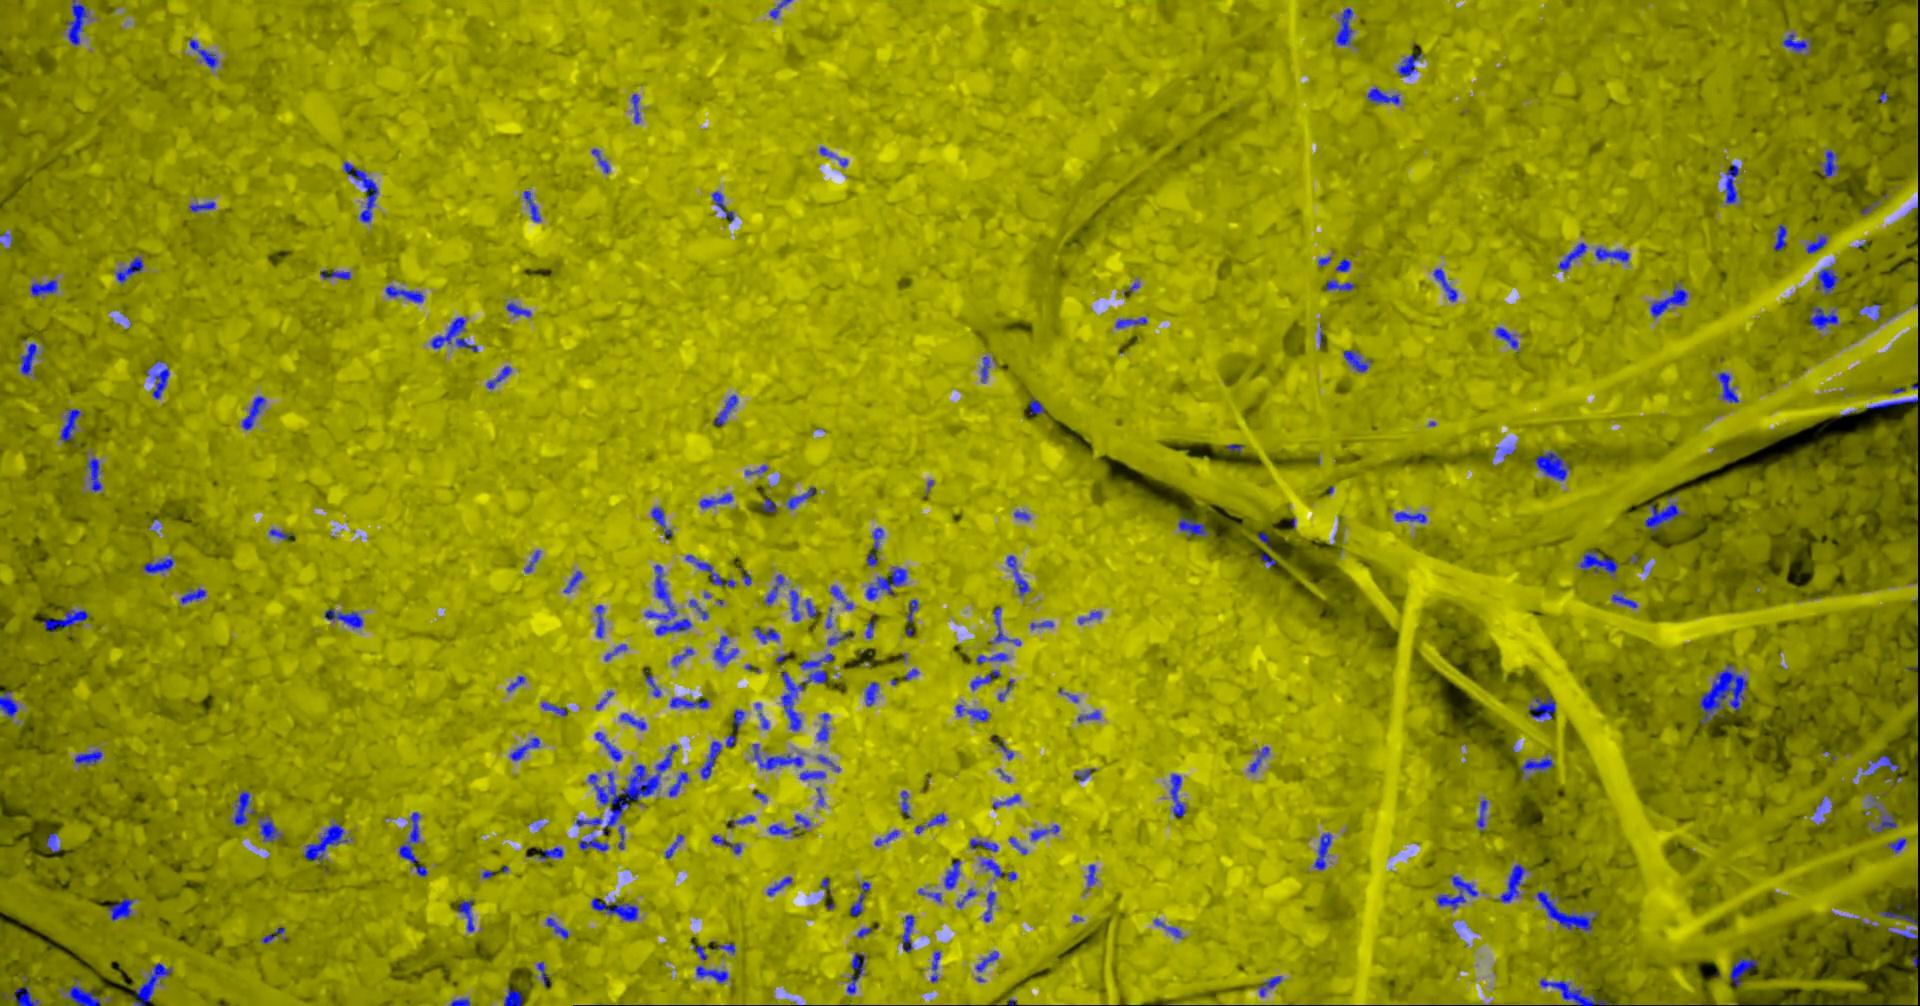ant: (781, 653, 833, 730), (644, 564, 691, 634), (1537, 890, 1597, 931), (342, 161, 378, 222), (397, 810, 427, 876), (1539, 978, 1610, 1005), (302, 823, 347, 861), (684, 554, 735, 587), (133, 962, 171, 1005), (430, 316, 477, 351), (1436, 875, 1477, 909), (865, 567, 905, 600), (752, 743, 803, 768), (1650, 285, 1688, 318), (989, 606, 1020, 645), (1644, 502, 1684, 531), (590, 897, 637, 921), (1534, 451, 1570, 480), (65, 0, 88, 44), (1498, 862, 1524, 902), (43, 608, 88, 630), (1006, 555, 1029, 594), (10, 974, 39, 1005), (1578, 550, 1617, 573), (1432, 267, 1457, 301), (241, 395, 265, 429), (700, 741, 721, 779), (189, 39, 217, 69), (1557, 243, 1586, 271), (1730, 956, 1757, 986), (232, 790, 255, 826), (594, 730, 621, 760), (712, 635, 738, 666), (712, 394, 737, 426), (1879, 904, 1919, 923), (846, 951, 863, 993), (324, 608, 362, 627), (66, 984, 102, 1005), (116, 257, 142, 283), (850, 882, 870, 916), (914, 812, 946, 833), (385, 285, 423, 302), (1528, 695, 1556, 719), (58, 408, 79, 441), (1808, 306, 1837, 329), (146, 368, 169, 398), (509, 737, 538, 760), (711, 191, 733, 221), (1717, 371, 1738, 401), (1335, 8, 1352, 44), (1313, 832, 1331, 869), (651, 507, 672, 539), (1815, 267, 1839, 293), (258, 814, 282, 841), (1170, 774, 1185, 815), (786, 486, 815, 508), (866, 527, 883, 565), (955, 704, 989, 721), (107, 897, 133, 920), (1723, 164, 1738, 203), (818, 146, 847, 166), (1397, 52, 1421, 76), (1495, 326, 1517, 352), (1177, 516, 1208, 535), (764, 574, 783, 605), (970, 669, 1001, 688), (711, 835, 742, 854), (85, 457, 102, 492), (1368, 86, 1399, 104), (1153, 918, 1182, 937), (486, 365, 510, 387), (698, 492, 731, 508), (695, 965, 728, 982), (1865, 398, 1919, 408), (1248, 746, 1269, 772), (1782, 33, 1810, 52), (830, 586, 853, 608), (1519, 757, 1553, 772), (1343, 349, 1368, 371), (523, 191, 540, 221), (19, 343, 36, 373), (1594, 246, 1629, 260), (668, 771, 687, 796), (766, 876, 791, 895), (943, 859, 960, 888), (457, 901, 472, 931), (545, 917, 568, 937), (975, 950, 998, 970), (1258, 976, 1281, 996), (0, 690, 17, 718), (1870, 754, 1898, 771), (590, 149, 610, 173), (1872, 813, 1896, 832), (664, 833, 683, 857), (143, 558, 173, 573), (1030, 824, 1059, 840), (30, 279, 57, 296), (618, 713, 645, 729), (670, 647, 693, 666), (578, 837, 608, 851), (902, 915, 913, 951), (956, 887, 977, 907), (563, 570, 582, 592), (980, 857, 1002, 876), (1823, 150, 1839, 177), (669, 697, 709, 708), (74, 749, 102, 763), (992, 794, 1020, 808), (1806, 234, 1826, 253), (753, 627, 778, 643), (827, 630, 852, 645), (977, 652, 1007, 664), (874, 829, 899, 845), (983, 890, 996, 921), (770, 0, 791, 18), (817, 754, 839, 771), (262, 926, 284, 942), (180, 588, 204, 603), (1394, 511, 1426, 522), (789, 589, 800, 621), (688, 600, 707, 619), (604, 644, 626, 661), (997, 680, 1013, 701), (863, 681, 877, 706), (817, 713, 829, 741), (969, 838, 997, 851), (645, 673, 660, 696), (1773, 224, 1785, 250), (756, 702, 768, 729), (1008, 836, 1027, 854), (505, 302, 530, 316), (1611, 593, 1636, 607), (319, 269, 350, 279), (540, 702, 565, 715), (1476, 799, 1486, 831), (505, 674, 524, 691), (630, 93, 640, 123), (930, 951, 940, 982), (524, 550, 538, 572), (1324, 279, 1354, 290), (768, 824, 797, 835), (918, 888, 941, 901), (503, 989, 522, 1005), (44, 832, 58, 852), (535, 847, 563, 857), (594, 605, 603, 636), (1077, 611, 1101, 622), (731, 814, 756, 826), (188, 201, 215, 211), (1115, 318, 1145, 326), (1887, 838, 1906, 852), (905, 600, 917, 622), (1077, 710, 1100, 721), (537, 962, 547, 987), (1029, 398, 1044, 414), (900, 790, 909, 818), (1887, 930, 1919, 937), (799, 770, 825, 779), (575, 817, 602, 826), (268, 528, 291, 539), (733, 709, 744, 729), (1074, 768, 1095, 780), (1086, 864, 1096, 887), (794, 813, 810, 827), (980, 356, 989, 381), (804, 600, 817, 617), (863, 619, 875, 638), (1335, 257, 1350, 271), (1260, 553, 1275, 567), (693, 944, 707, 959), (1030, 620, 1053, 629), (761, 498, 775, 512), (717, 942, 734, 954), (450, 997, 470, 1005), (617, 826, 623, 848)
